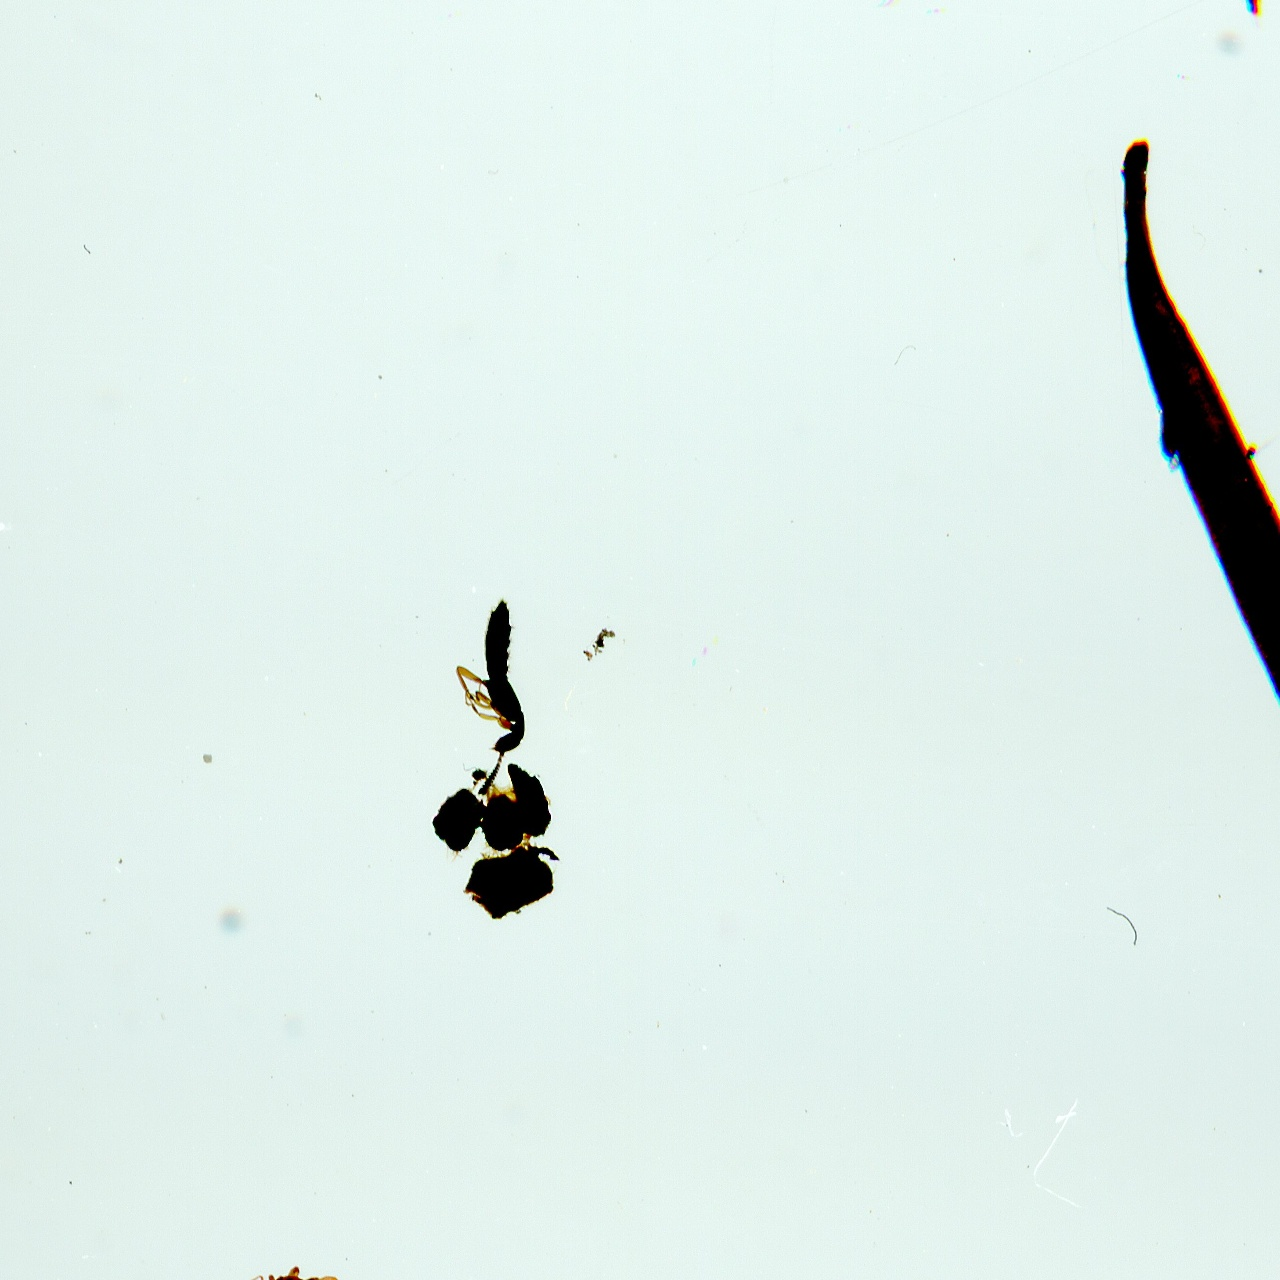arthropod: (453, 591, 533, 802), (221, 1261, 350, 1280), (1236, 0, 1267, 30), (869, 0, 920, 12)
